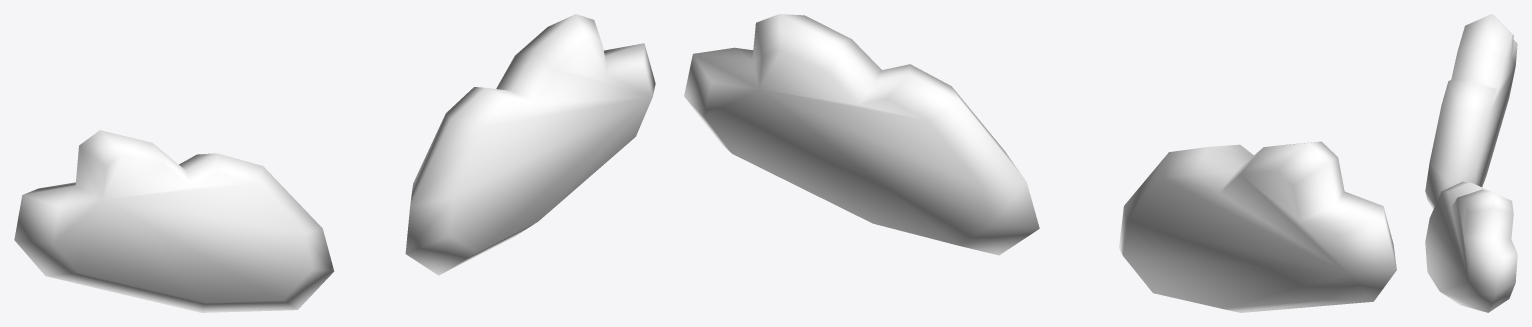
The model's file is eyebrows_02.fbx.
3 views of the same model, side by side, from view 1: azimuth 30°, elevation 25°; view 2: azimuth 150°, elevation 25°; view 3: azimuth 270°, elevation 25° (orthographic). The views are drawn at different scales.
Visible parts, largest first — view 1: Eyebrows_02; view 2: Eyebrows_02; view 3: Eyebrows_02.
Part boxes in pixels (x1,y1,x2,y2): Eyebrows_02: (14, 14, 655, 312); Eyebrows_02: (684, 14, 1396, 312); Eyebrows_02: (1425, 14, 1517, 312).
Size of the model in its own units: 92.32 by 27.32 by 15.06.
